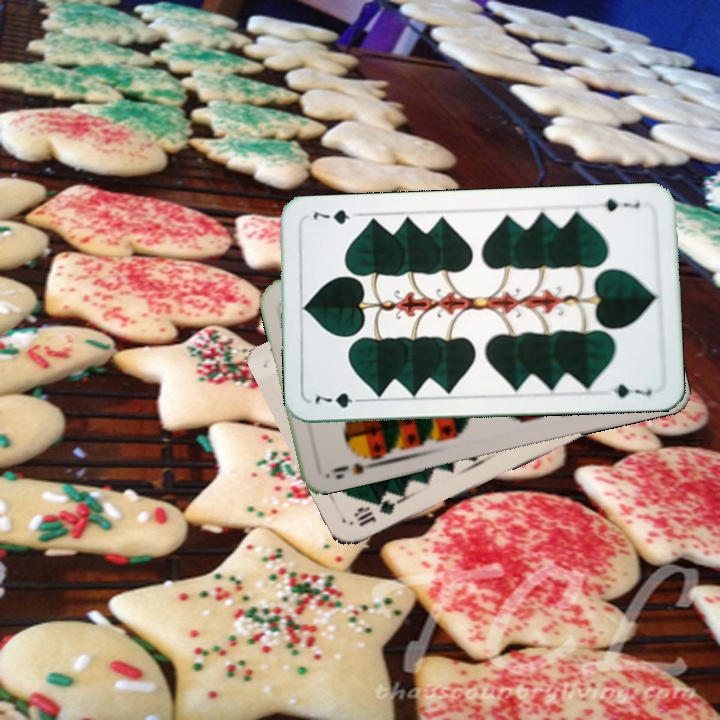G10: (350, 490, 405, 529)
G7: (311, 388, 368, 410), (600, 195, 642, 214)
S9: (324, 447, 383, 482)
